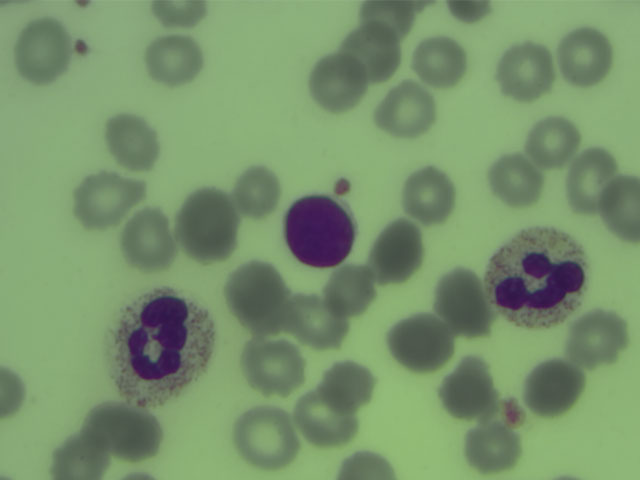Platelets: (501, 397, 527, 435), (72, 35, 92, 61), (333, 175, 355, 196)
RBC: (489, 150, 544, 206), (567, 153, 622, 209), (570, 312, 625, 368), (526, 363, 581, 419), (464, 421, 519, 477), (439, 363, 494, 419), (437, 281, 492, 337), (392, 311, 447, 367), (322, 355, 377, 411), (296, 387, 351, 443), (238, 409, 293, 465), (246, 338, 301, 394), (369, 220, 424, 276), (402, 168, 457, 224), (559, 28, 614, 84), (499, 41, 554, 97), (378, 82, 433, 138), (414, 31, 469, 87), (339, 27, 394, 83), (311, 53, 366, 109), (324, 263, 379, 319), (289, 290, 344, 346), (230, 267, 285, 323), (106, 404, 161, 460), (229, 160, 284, 216), (178, 198, 233, 254), (119, 213, 174, 269), (77, 171, 132, 227), (104, 111, 159, 167), (147, 31, 202, 87), (16, 23, 71, 79), (527, 113, 582, 169), (49, 431, 107, 479), (602, 175, 640, 241), (356, 1, 420, 40), (335, 443, 397, 479), (152, 1, 208, 34), (1, 360, 27, 423)
WBC: (110, 289, 207, 405), (489, 220, 591, 330), (284, 194, 357, 272)
